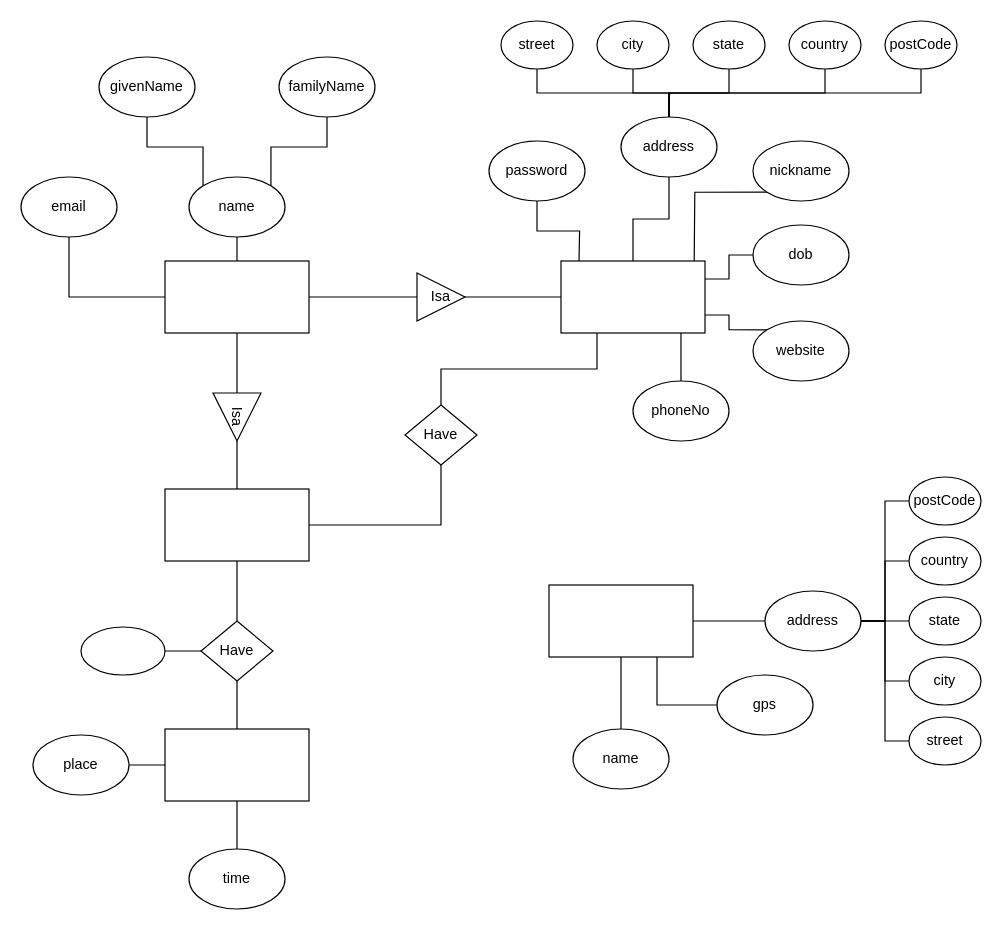
This 1002x930 diagram has some shape labels left out. Each missing label, with the box of its shape:
Contacts & Invitees Lists: (164, 488, 309, 561)
Events: (164, 728, 309, 801)
People: (164, 260, 309, 333)
Places: (548, 584, 693, 657)
RSVP'ed?: (80, 626, 165, 675)
Users: (560, 260, 705, 333)
